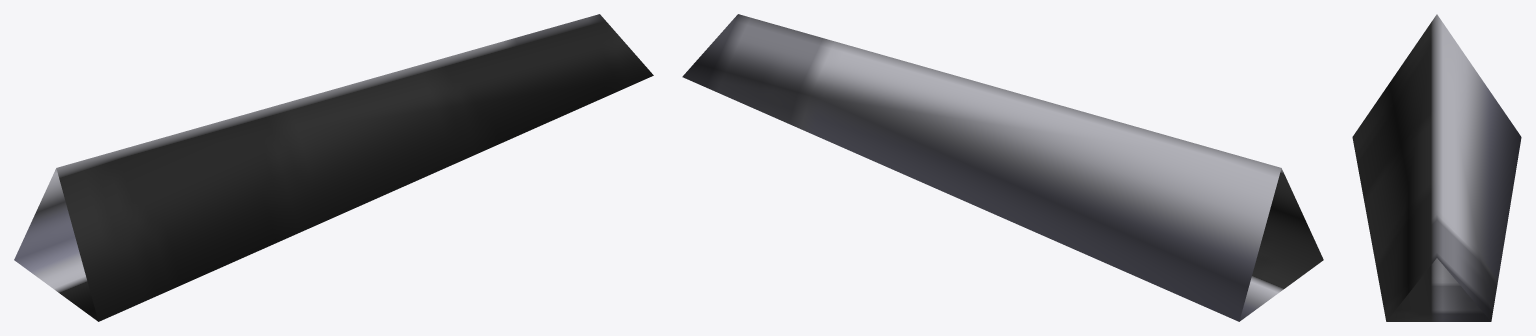
File: shaft_classic_RRe.dae
3 views of the same model, side by side, from view 1: azimuth 30°, elevation 25°; view 2: azimuth 150°, elevation 25°; view 3: azimuth 270°, elevation 25° (orthographic).
Parts seen in each view (by area): view 1: _0_0_node; view 2: _0_0_node; view 3: _0_0_node.
Part boxes in pixels (<box>): _0_0_node: <box>14,14,653,321</box>; _0_0_node: <box>682,14,1323,321</box>; _0_0_node: <box>1352,14,1521,321</box>.
Size of the model in its own units: 5.6 by 1.35 by 1.43.
1 material, 1 textured.
